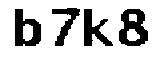7: (51, 6, 80, 48)
8: (118, 5, 151, 48)
b: (10, 7, 46, 50)
k: (81, 6, 115, 49)
